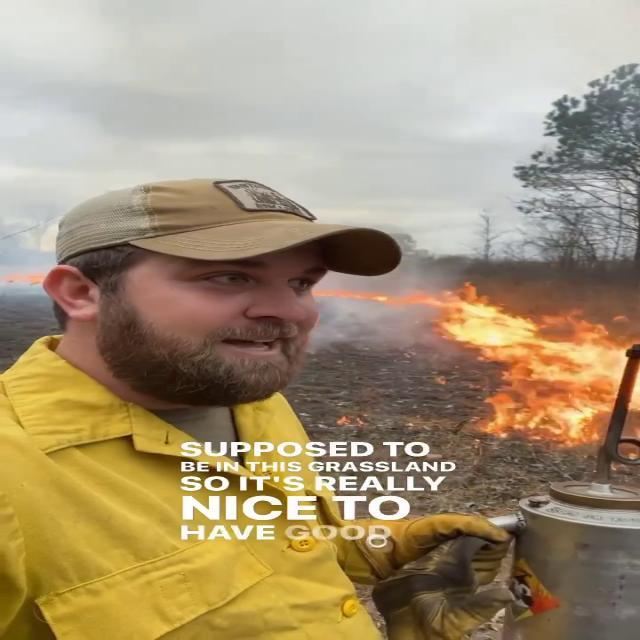Fire: (410, 283, 640, 446)
